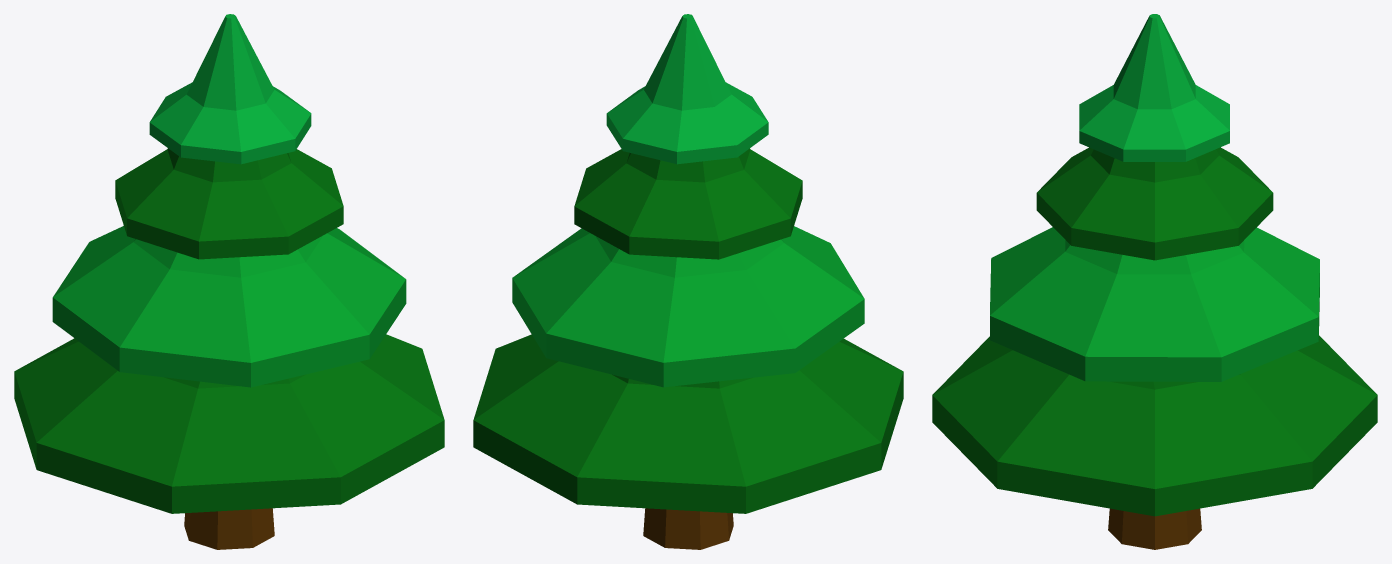
Rendered from littlePineTree.glb.
The picture shows the model from 3 angles, left to right: view 1: azimuth 30°, elevation 25°; view 2: azimuth 150°, elevation 25°; view 3: azimuth 270°, elevation 25°; orthographic projection.
Parts seen in each view (by area): view 1: Circle; view 2: Circle; view 3: Circle.
Part boxes in pixels (bbox=[...]): Circle: bbox=[14, 14, 444, 549]; Circle: bbox=[473, 14, 903, 549]; Circle: bbox=[932, 14, 1377, 549].
Size of the model in its own units: 7.85 by 10 by 7.85.
